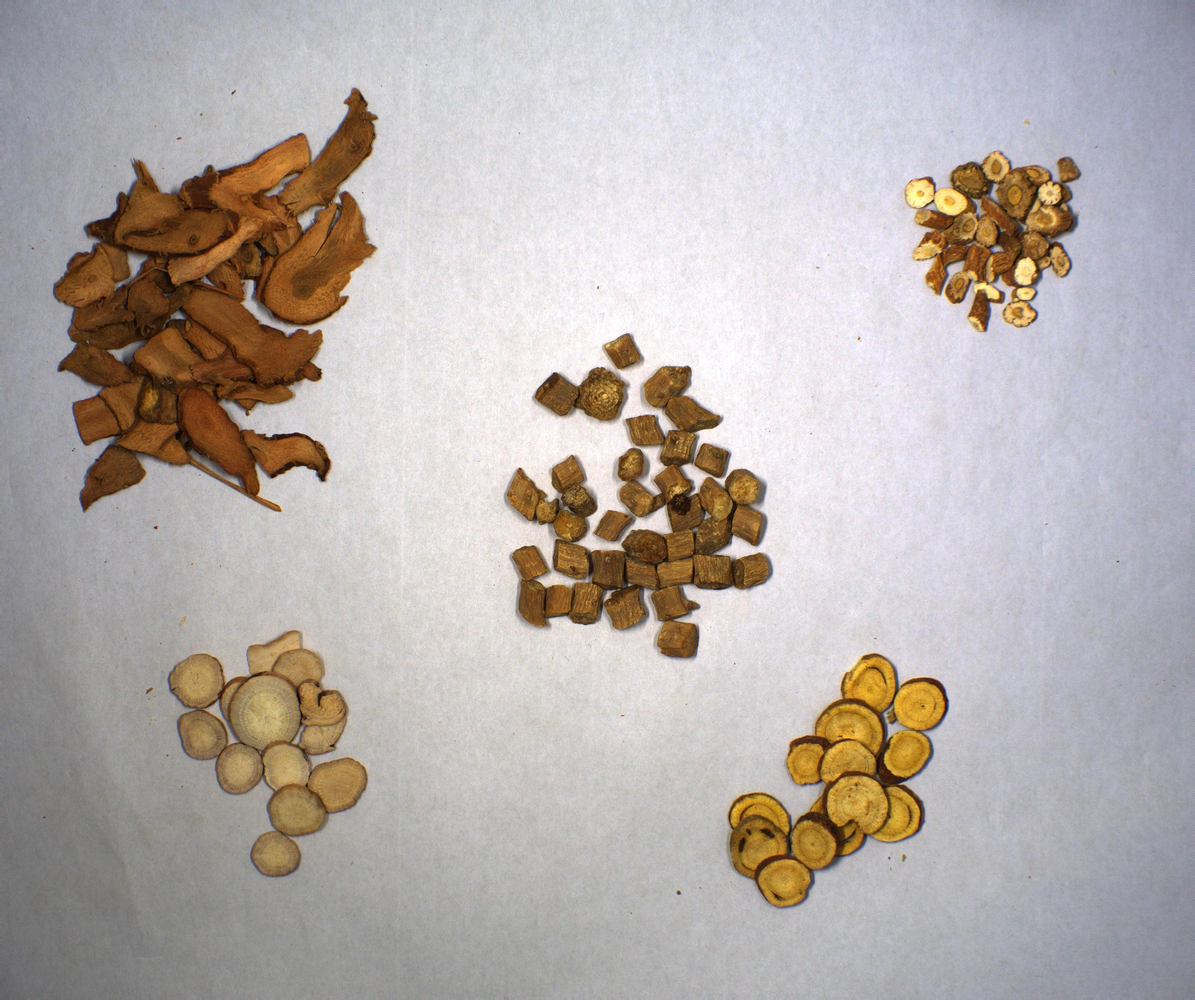baishao: (167, 628, 369, 878)
banlangen: (907, 143, 1082, 332)
gancaopian: (728, 651, 948, 907)
gaoliangjiang: (55, 84, 375, 512)
niuxi: (502, 333, 770, 658)
